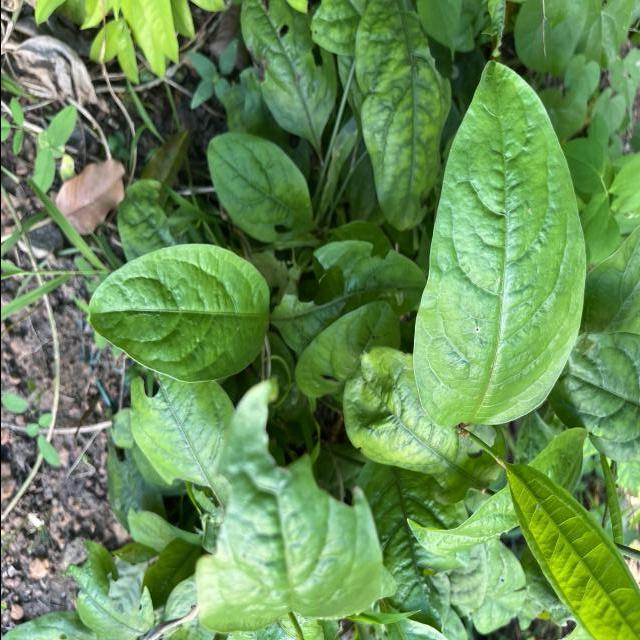Plumbago indica: (408, 55, 590, 432), (80, 240, 272, 388), (351, 0, 451, 238), (205, 125, 318, 244)
